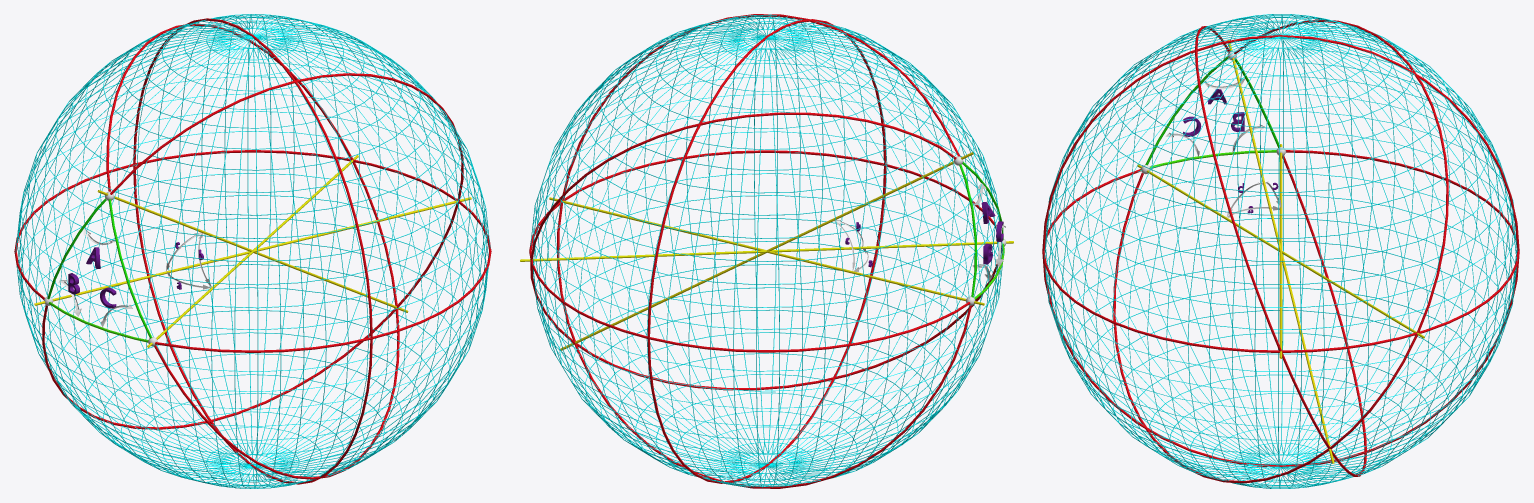
The model's file is another1BUT1more.glb.
3 views of the same model, side by side, from view 1: azimuth 30°, elevation 25°; view 2: azimuth 150°, elevation 25°; view 3: azimuth 270°, elevation 25° (orthographic).
Visible parts, largest first — view 1: Sphere, Torus.001, Torus.005, Torus.002, Torus.004, Cylinder.002, Cylinder.003, Cylinder.001; view 2: Sphere, Torus.005, Torus.001, Torus.004, Torus.002, Cylinder.001, Cylinder.003, Cylinder.002; view 3: Sphere, Torus.001, Torus.004, Torus.002, Torus.005, Cylinder.003, Cylinder.001, Cylinder.002.
Boxes of the visible parts, box(x1,y1,x2,y2) form: Sphere: box(15, 14, 490, 488); Torus.001: box(133, 18, 372, 484); Torus.005: box(42, 73, 463, 429); Torus.002: box(14, 150, 491, 352); Torus.004: box(106, 24, 399, 479); Cylinder.002: box(34, 197, 471, 305); Cylinder.003: box(97, 190, 408, 312); Cylinder.001: box(147, 155, 358, 347); Sphere: box(530, 14, 1003, 487); Torus.005: box(557, 14, 971, 488); Torus.001: box(647, 19, 886, 483); Torus.004: box(530, 112, 1002, 390); Torus.002: box(529, 150, 996, 352); Cylinder.001: box(520, 241, 1013, 261); Cylinder.003: box(560, 152, 973, 350); Cylinder.002: box(549, 197, 984, 305); Sphere: box(1044, 14, 1517, 488); Torus.001: box(1042, 35, 1519, 466); Torus.004: box(1113, 19, 1448, 483); Torus.002: box(1042, 150, 1519, 352); Torus.005: box(1195, 26, 1366, 476); Cylinder.003: box(1227, 39, 1334, 463); Cylinder.001: box(1137, 164, 1424, 338); Cylinder.002: box(1279, 144, 1282, 358).
Bounding box in the file's own units: 2.12 × 2.01 × 2.01.
